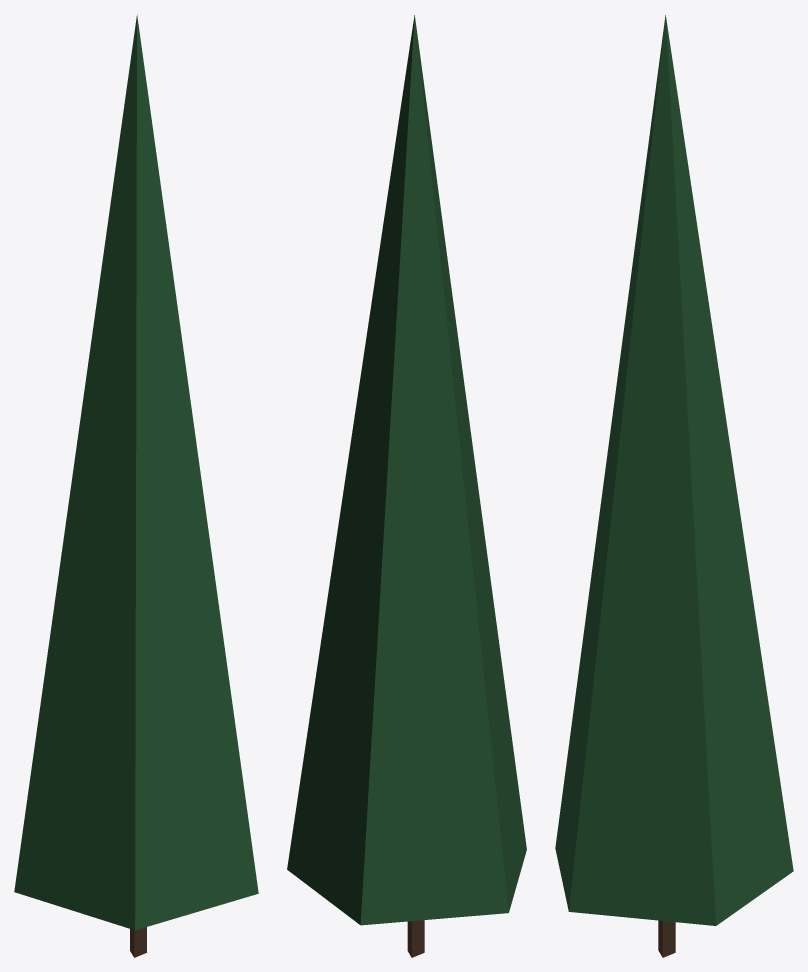
The model's file is epicea_loin.glb.
The picture shows the model from 3 angles, left to right: view 1: azimuth 30°, elevation 25°; view 2: azimuth 150°, elevation 25°; view 3: azimuth 270°, elevation 25°; orthographic projection.
Visible parts, largest first — view 1: epicea_loin; view 2: epicea_loin; view 3: epicea_loin.
Boxes of the visible parts, x1,y1,x2,y2 form: epicea_loin: (14,14,258,957); epicea_loin: (287,15,526,957); epicea_loin: (555,15,793,957).
Bounding box in the file's own units: 5.68 × 24.2 × 5.56.
Materials: 1 (1 with a texture image).
